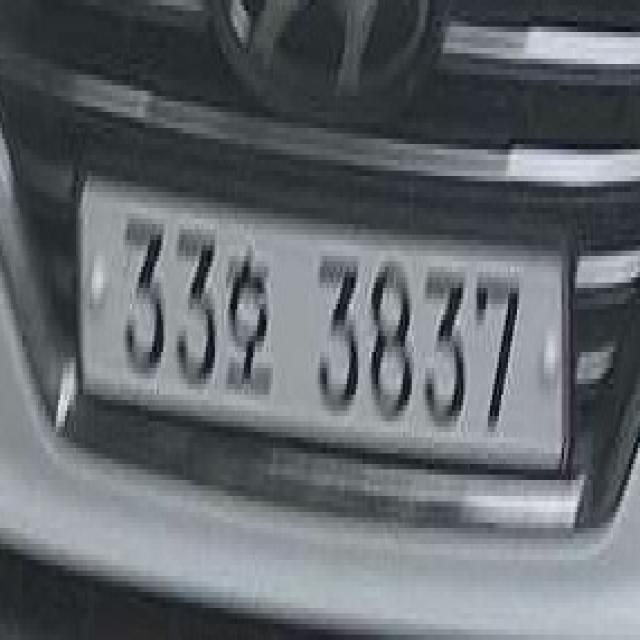3: (172, 213, 217, 400), (314, 251, 361, 416), (423, 261, 468, 432), (121, 214, 168, 374)
7: (474, 272, 520, 427)
8: (367, 256, 414, 427)
ho: (222, 245, 273, 395)
license_plate: (78, 170, 571, 490)
